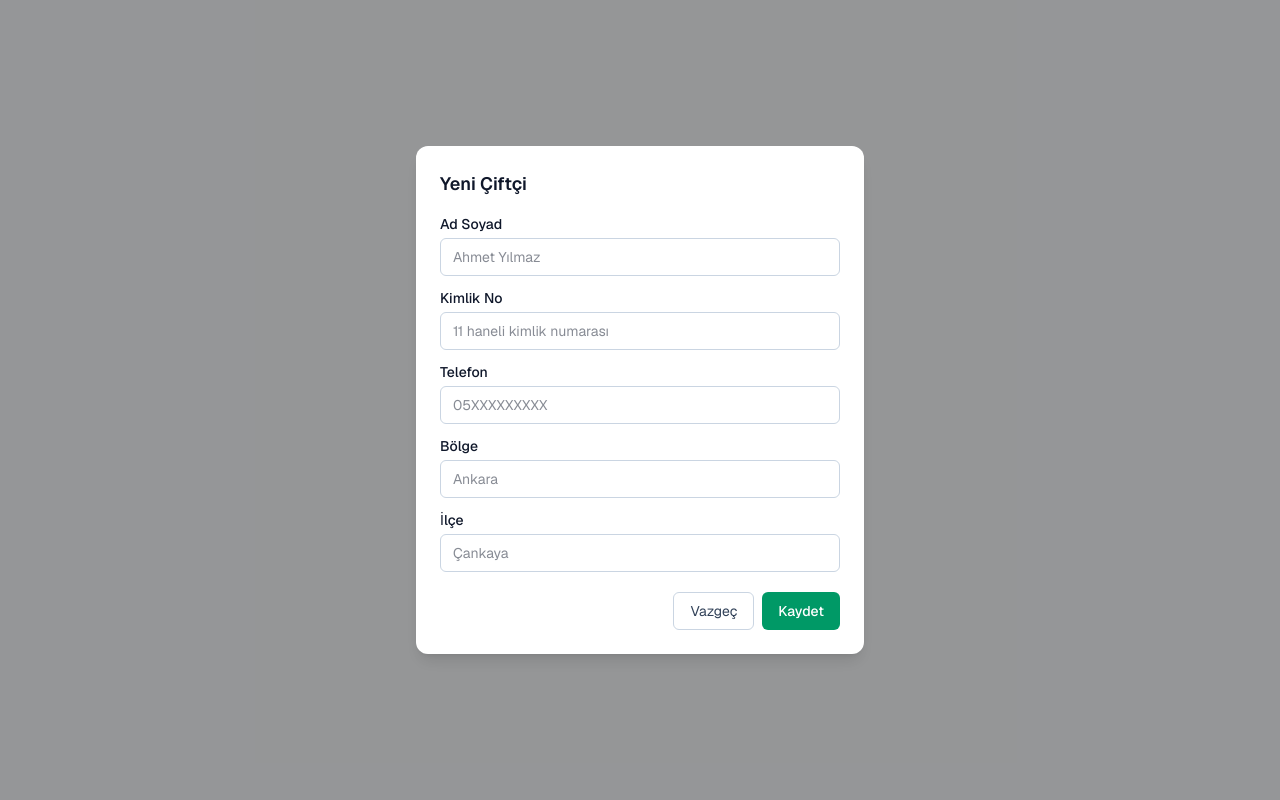
Scenario: FarmerFormModal › bos form gonderilince validasyon mesajlarini gosterir
This screenshot has width=1280, height=800.
Click the button "Kaydet" at x=801, y=611, box [762,592,840,630]
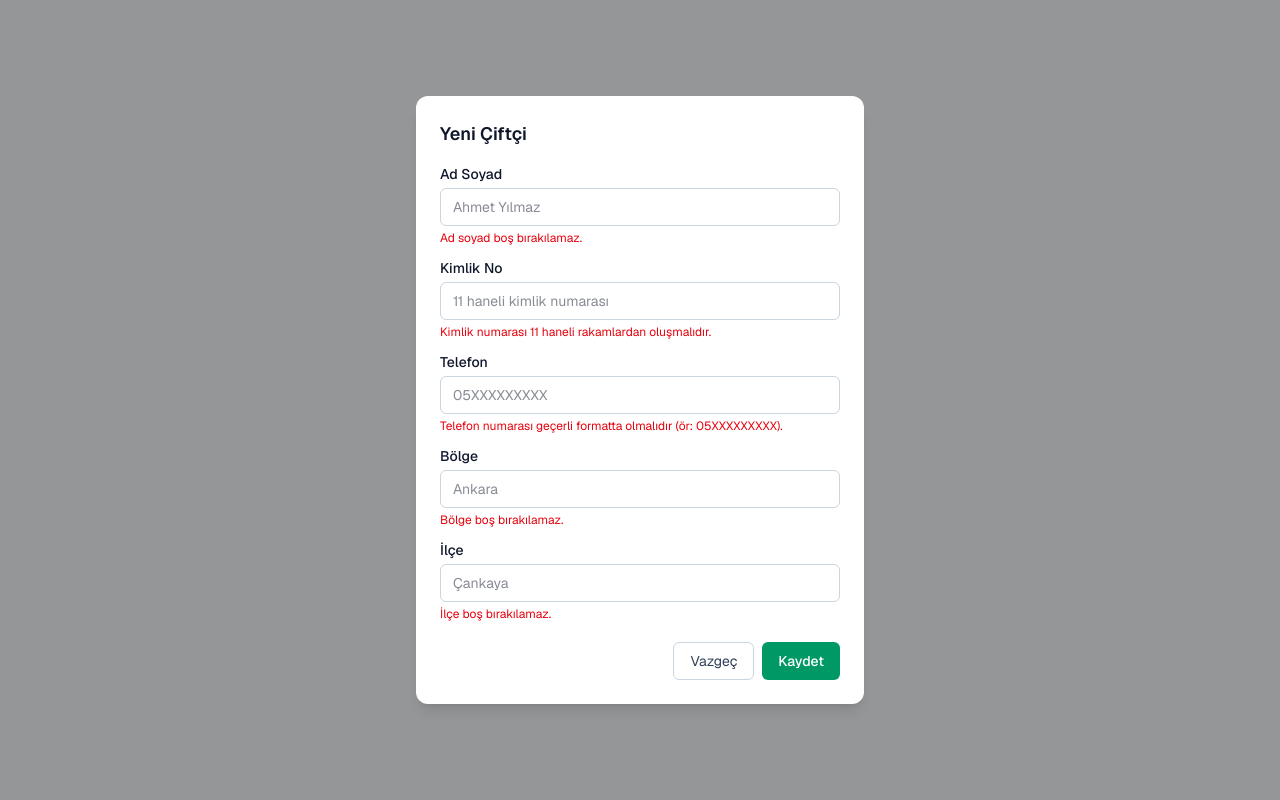
Expected: the text "Ad soyad boş bırakılamaz." is shown, [440,230,582,246]
Expected: the text "Kimlik numarası 11 haneli rakamlardan oluşmalıdır." is shown, [440,324,711,340]
Expected: the text "Bölge boş bırakılamaz." is shown, [440,512,563,528]
